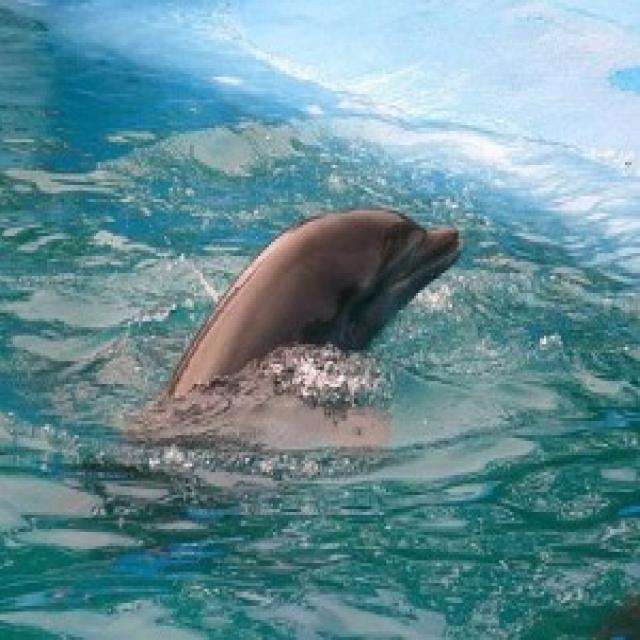Dolphin: (114, 185, 466, 502)
